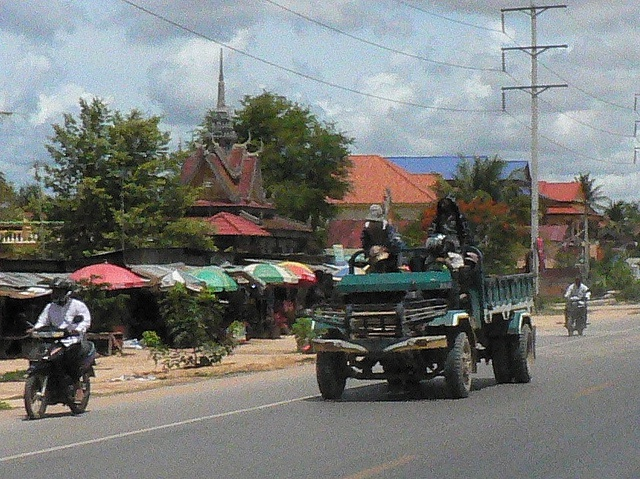non-vehicle: (11, 311, 98, 420), (562, 288, 591, 337)
